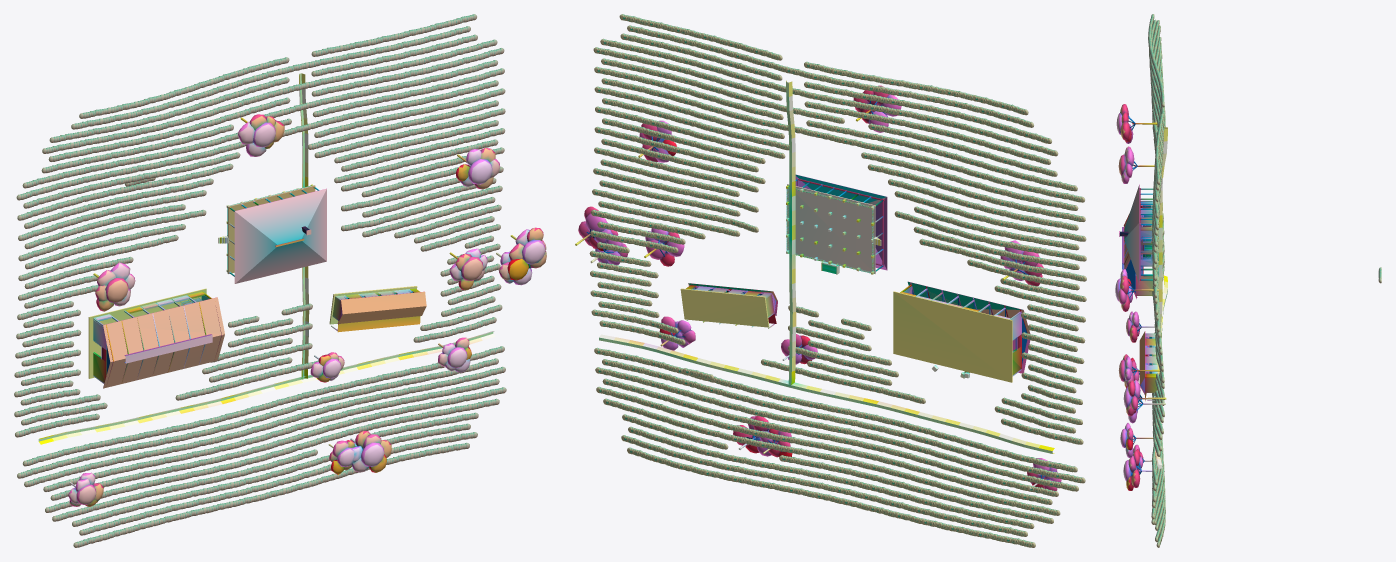
Rendered from ChaiBagan.fbx.
3 views of the same model, side by side, from view 1: azimuth 30°, elevation 25°; view 2: azimuth 150°, elevation 25°; view 3: azimuth 270°, elevation 25° (orthographic). The views are drawn at different scales.
Visible parts, largest first — view 1: CB_ShadeTrees_LOD0, CB_Factory_LOD0, CB_Bungalow_LOD0, CB_Ditch_LOD0, CB_LineHouses_LOD0, CB_BungalowVerandah_LOD0; view 2: CB_Factory_LOD0, CB_BungalowVerandah_LOD0, CB_ShadeTrees_LOD0, CB_Ditch_LOD0, CB_LineHouses_LOD0, CB_Bungalow_LOD0; view 3: CB_ShadeTrees_LOD0, CB_Bungalow_LOD0, CB_LineHouses_LOD0, CB_Ditch_LOD0, CB_Factory_LOD0, CB_BungalowVerandah_LOD0.
Boxes of the visible parts, left/top/right/bottom form: CB_ShadeTrees_LOD0: left=68, top=114, right=546, bottom=506; CB_Factory_LOD0: left=88, top=288, right=224, bottom=388; CB_Bungalow_LOD0: left=226, top=184, right=326, bottom=283; CB_Ditch_LOD0: left=38, top=73, right=495, bottom=444; CB_LineHouses_LOD0: left=329, top=286, right=426, bottom=332; CB_BungalowVerandah_LOD0: left=218, top=185, right=319, bottom=276; CB_Factory_LOD0: left=893, top=281, right=1030, bottom=382; CB_BungalowVerandah_LOD0: left=786, top=178, right=884, bottom=273; CB_ShadeTrees_LOD0: left=575, top=85, right=1061, bottom=490; CB_Ditch_LOD0: left=599, top=80, right=1054, bottom=453; CB_LineHouses_LOD0: left=680, top=283, right=777, bottom=328; CB_Bungalow_LOD0: left=786, top=174, right=887, bottom=274; CB_ShadeTrees_LOD0: left=1115, top=104, right=1166, bottom=490; CB_Bungalow_LOD0: left=1119, top=184, right=1158, bottom=284; CB_LineHouses_LOD0: left=1139, top=331, right=1158, bottom=400; CB_Ditch_LOD0: left=1155, top=127, right=1167, bottom=468; CB_Factory_LOD0: left=1122, top=200, right=1152, bottom=298; CB_BungalowVerandah_LOD0: left=1139, top=188, right=1158, bottom=281.
Size of what is drawn, in the model's own units: 114 by 91.7 by 59.64.
